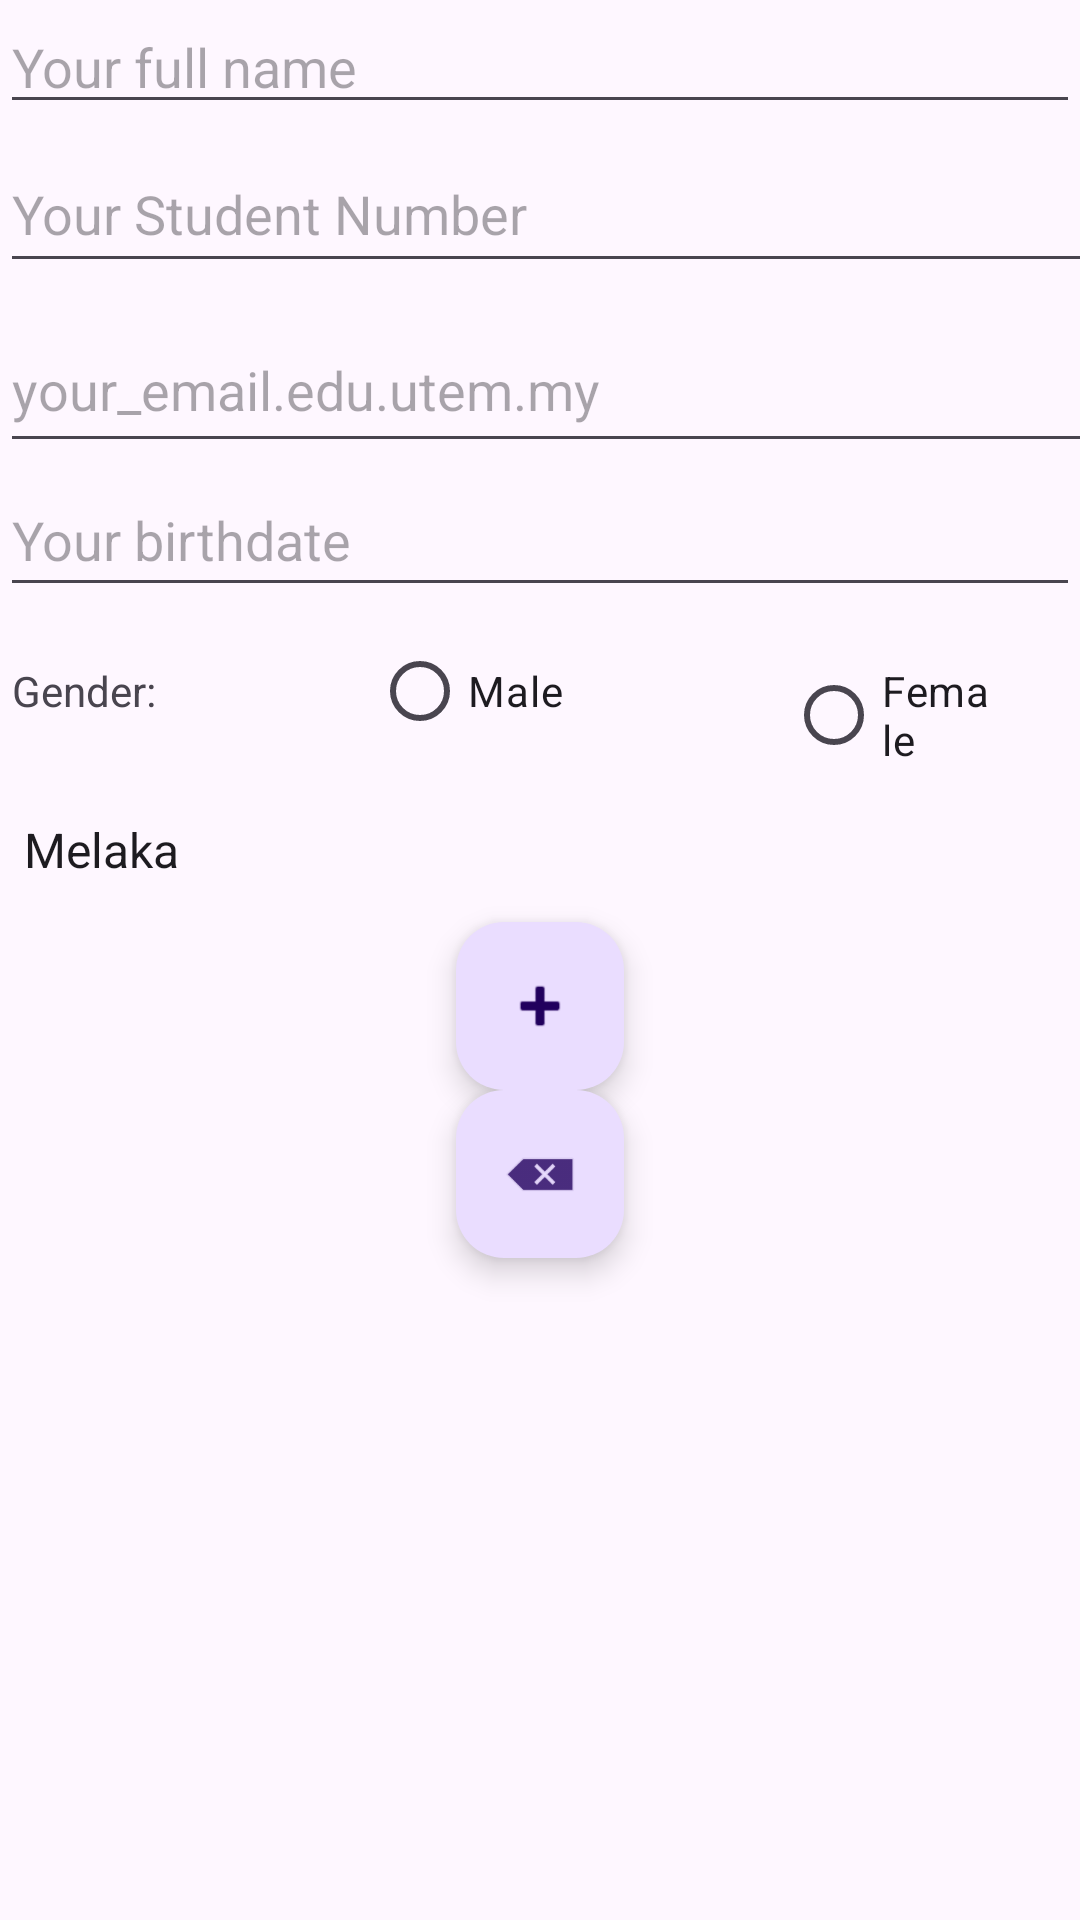

Point at icon controls on the screen. Image size 1080 x 1920, points as (x,y).
add: (540,1006)
delete: (540,1174)
